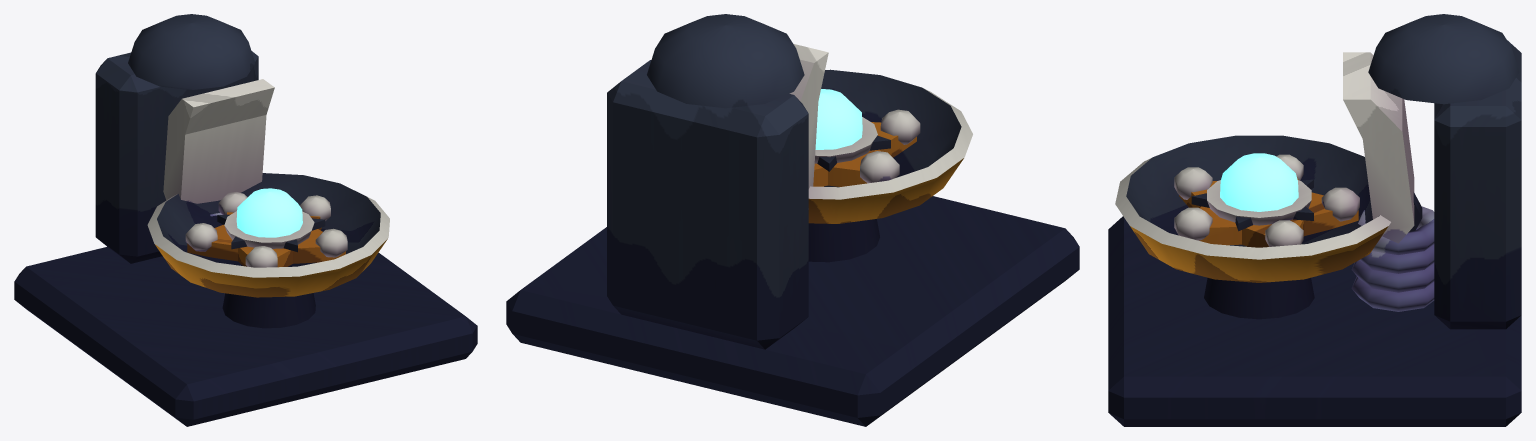
The model's file is R4X_ExplosiveTrapDeployer_LOD1.glb.
3 renders of one model, left to right at view 1: azimuth 30°, elevation 25°; view 2: azimuth 150°, elevation 25°; view 3: azimuth 270°, elevation 25°, orthographic. The views are drawn at different scales.
Visible parts, largest first — view 1: R4X_ExplosiveTrapDeployer_LOD1; view 2: R4X_ExplosiveTrapDeployer_LOD1; view 3: R4X_ExplosiveTrapDeployer_LOD1.
Part boxes in pixels (x1,y1,x2,y2): R4X_ExplosiveTrapDeployer_LOD1: (14,14,477,426); R4X_ExplosiveTrapDeployer_LOD1: (506,14,1079,426); R4X_ExplosiveTrapDeployer_LOD1: (1108,14,1521,426).
Size of the model in its own units: 0.52 by 0.446 by 0.52.
Materials: 5 (4 with a texture image).
